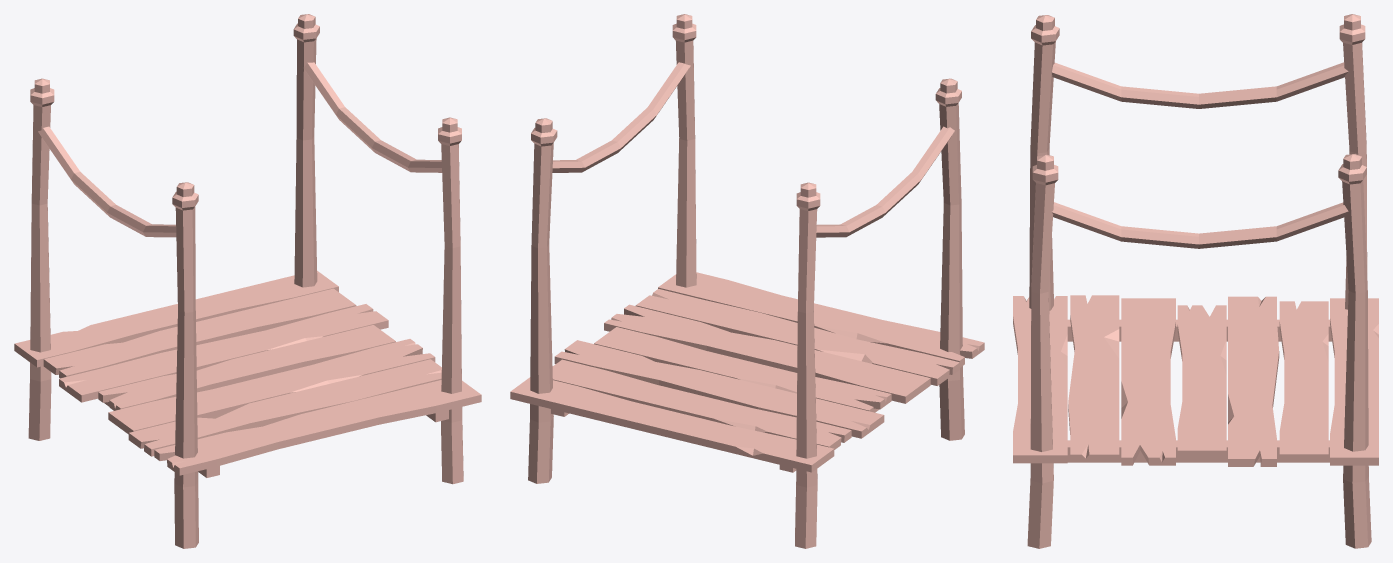
The model's file is Mega_Asset_s_Pack_Cube_270.FBX.
The picture shows the model from 3 angles, left to right: view 1: azimuth 30°, elevation 25°; view 2: azimuth 150°, elevation 25°; view 3: azimuth 270°, elevation 25°; orthographic projection. The views are drawn at different scales.
Visible parts, largest first — view 1: Mega_Asset_s_Pack_Cube_270; view 2: Mega_Asset_s_Pack_Cube_270; view 3: Mega_Asset_s_Pack_Cube_270.
Part boxes in pixels (x1,y1,x2,y2): Mega_Asset_s_Pack_Cube_270: (14,14,481,548); Mega_Asset_s_Pack_Cube_270: (510,14,984,548); Mega_Asset_s_Pack_Cube_270: (1013,14,1378,548).
Size of what is drawn, in the model's own units: 300 by 283 by 331.
